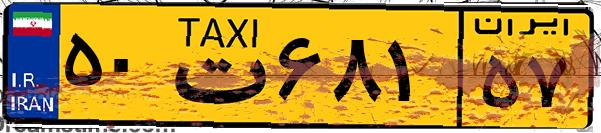0: (110, 28, 158, 98)
1: (385, 28, 445, 110)
5: (57, 26, 110, 100), (475, 38, 525, 113)
6: (270, 28, 330, 110)
7: (525, 38, 570, 115)
8: (330, 28, 385, 110)
ت: (158, 12, 270, 120)
